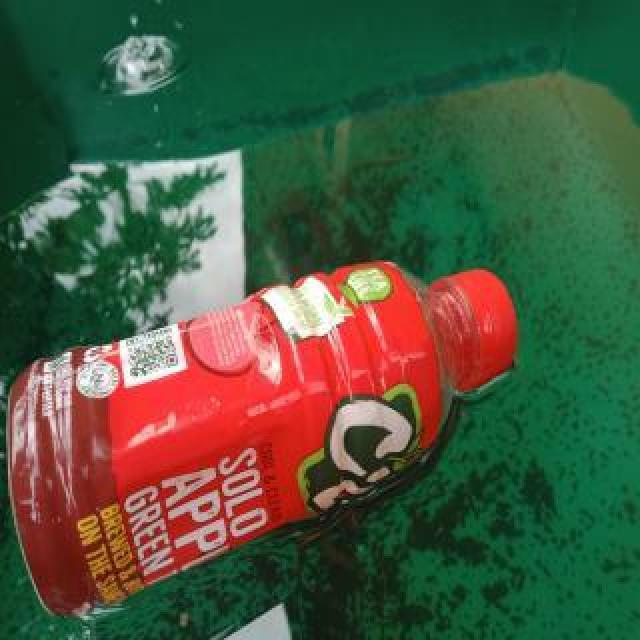bottle: (5, 252, 519, 620)
